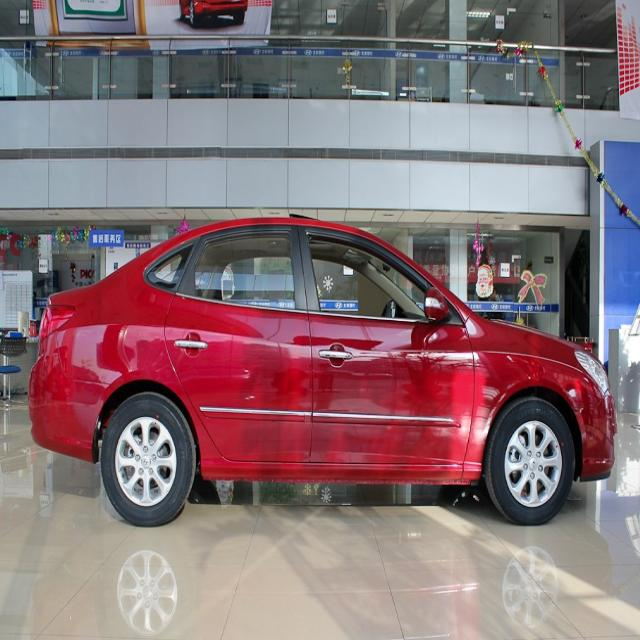back_right_side_light: (35, 298, 77, 342)
door: (164, 228, 304, 473)
front_right_side_door: (300, 218, 476, 486)
front_right_side_light: (574, 348, 612, 398)
front_right_side_mirror: (426, 284, 452, 327)
wheel: (98, 388, 198, 530), (486, 394, 578, 528)
